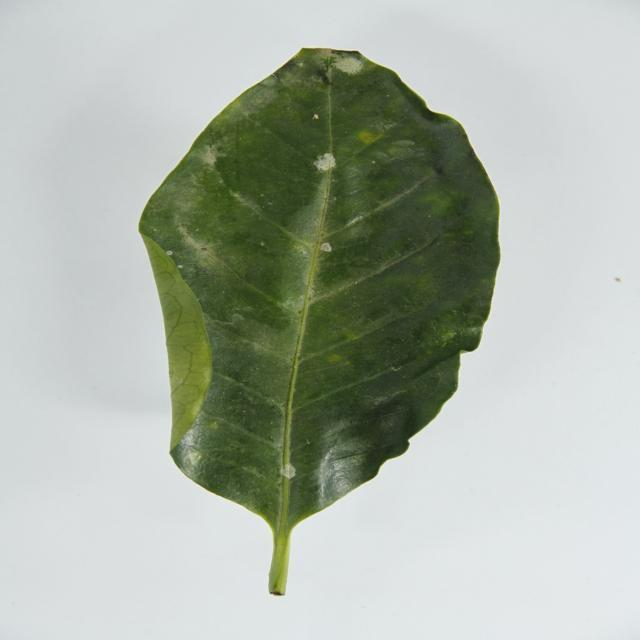DeficienciaNutricional-Boro: (139, 49, 501, 595)
